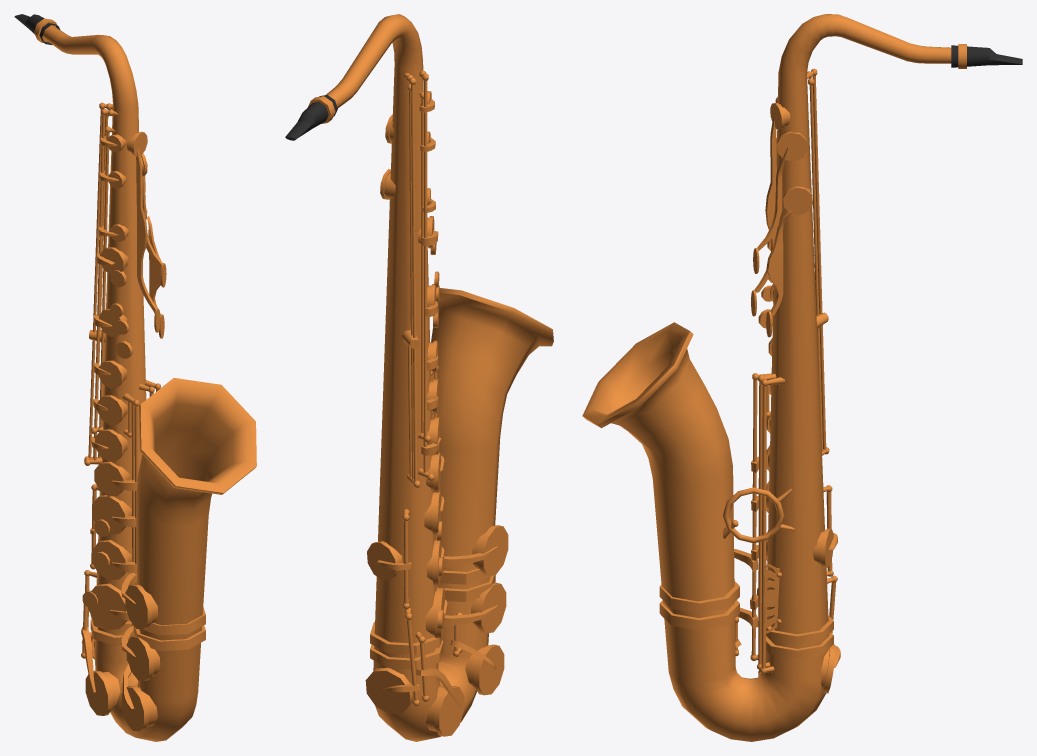
File: Saxophone_01.fbx
The picture shows the model from 3 angles, left to right: view 1: azimuth 30°, elevation 25°; view 2: azimuth 150°, elevation 25°; view 3: azimuth 270°, elevation 25°; orthographic projection. The views are drawn at different scales.
Parts seen in each view (by area): view 1: Saxophone_01; view 2: Saxophone_01; view 3: Saxophone_01.
Part boxes in pixels (box(x1,y1,x2,y2)): Saxophone_01: box(14, 14, 256, 741); Saxophone_01: box(285, 14, 553, 741); Saxophone_01: box(582, 14, 1022, 741).
Size of the model in its own units: 0.1891 by 1.06 by 0.5831.
